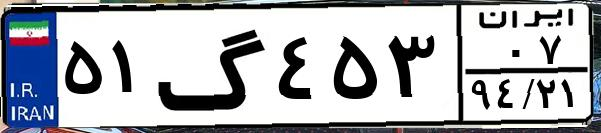0: (508, 27, 537, 80)
1: (110, 28, 156, 98), (560, 70, 590, 125)
2: (535, 70, 560, 125)
3: (385, 28, 445, 110)
4: (270, 28, 330, 110), (495, 70, 520, 125)
5: (330, 28, 385, 110), (57, 26, 110, 100)
7: (537, 27, 568, 80)
9: (470, 70, 495, 125)
گ: (156, 12, 270, 120)
